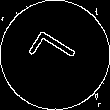L_SE: (26, 29, 84, 81)
